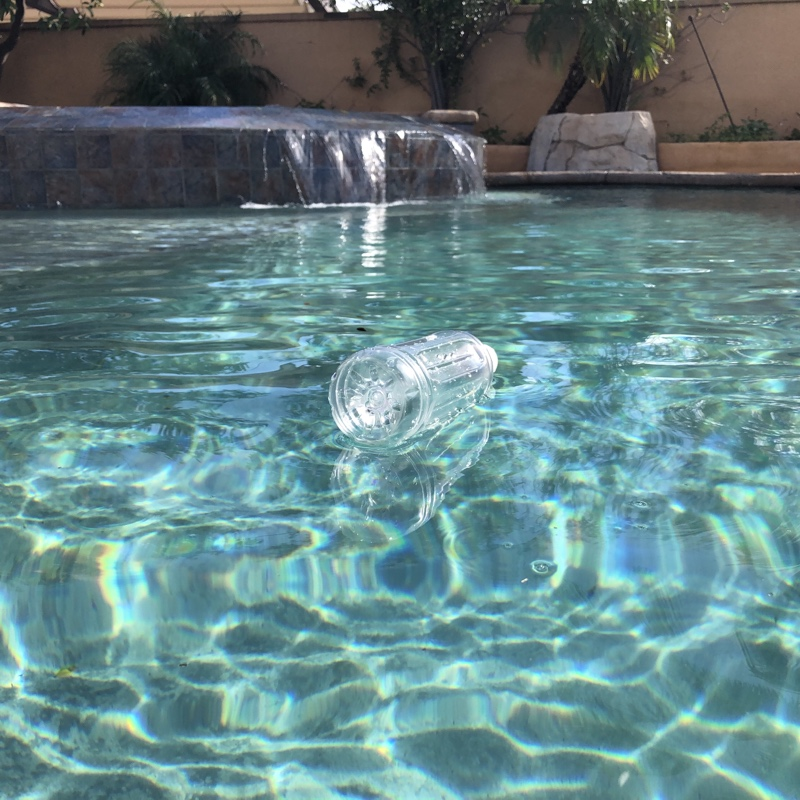Plastic Bottle: (325, 321, 501, 456)
